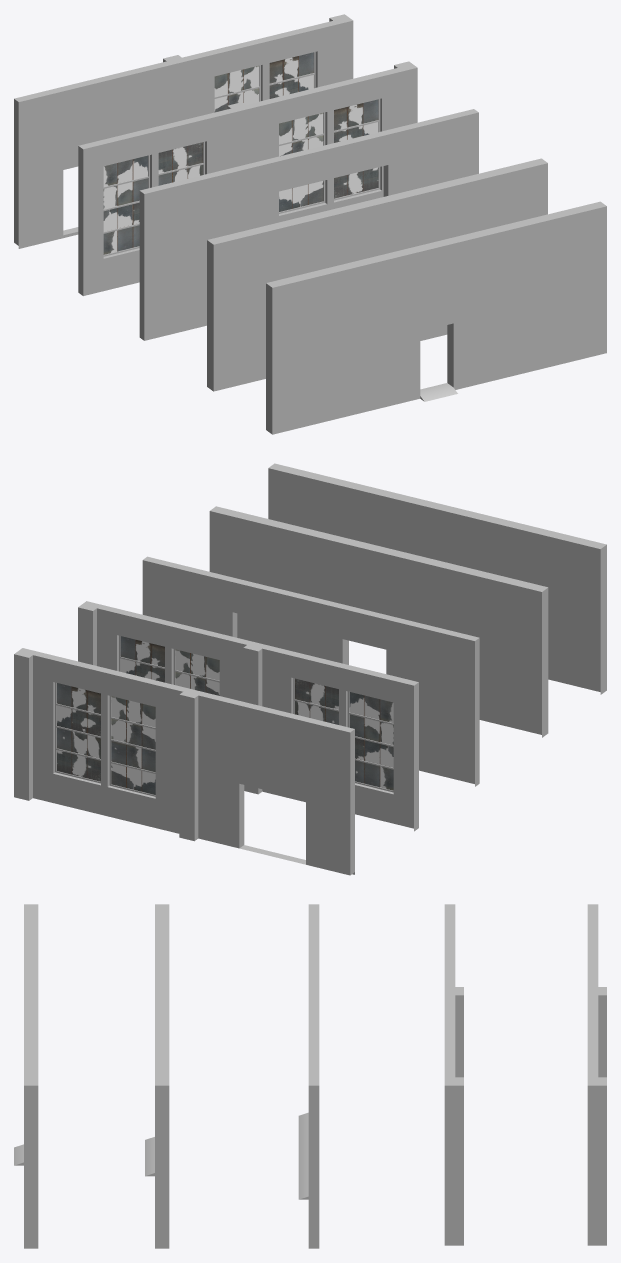
The model's file is Factory2Walls01.FBX.
3 views of the same model, one above another, from view 1: azimuth 30°, elevation 25°; view 2: azimuth 150°, elevation 25°; view 3: azimuth 270°, elevation 25° (orthographic). The views are drawn at different scales.
Parts seen in each view (by area): view 1: Object001; view 2: Object001; view 3: Object001.
Part boxes in pixels (x1,y1,x2,y2): Object001: [14, 14, 606, 434]; Object001: [14, 463, 606, 875]; Object001: [14, 904, 606, 1248].
Bounding box in the file's own units: 1200 × 503 × 1658.
